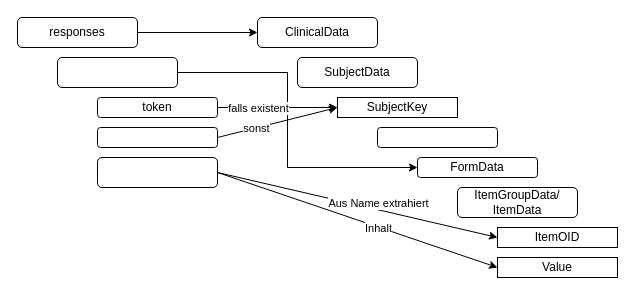
The diagram is 635 pixels wide and 295 high, and some of its shapes have lost their labels. The box of each missing label's shape, as (x1, y1, x2, y2) in pixels:
id: (96, 126, 218, 148)
rows/row: (56, 56, 178, 88)
StudyEventData: (376, 126, 498, 148)
{AnswerName}: (96, 156, 218, 188)
